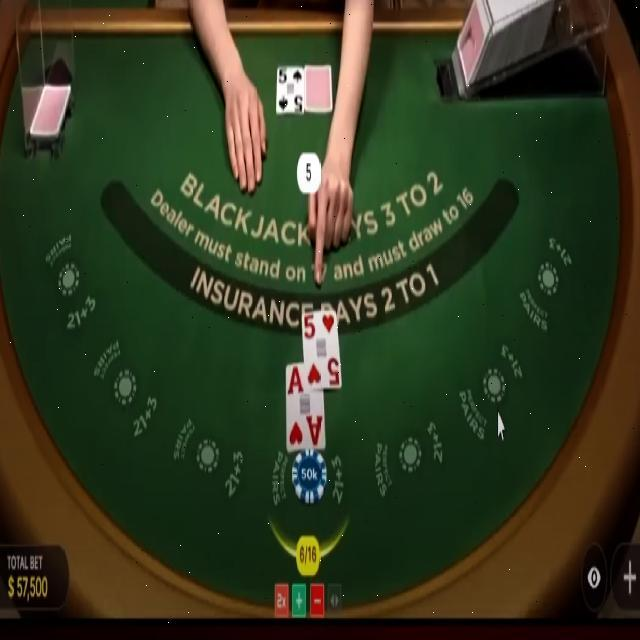Card-5: (302, 309, 341, 391), (276, 66, 304, 114)
Card-A: (286, 363, 325, 451)
